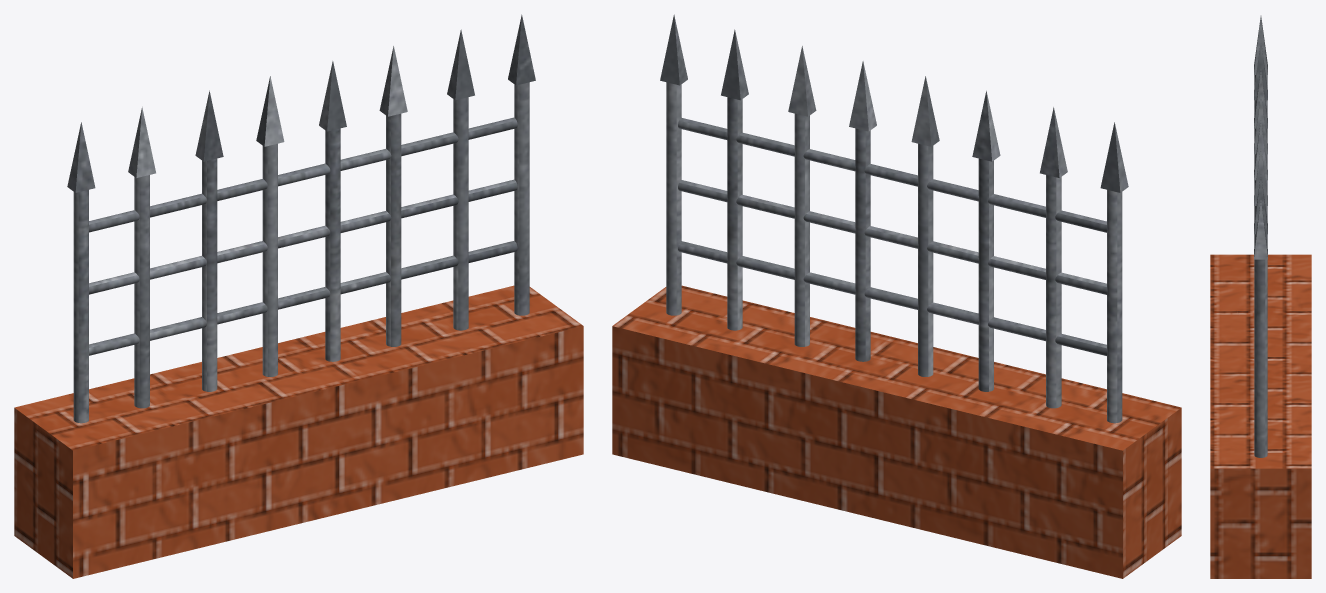
The model's file is fence.FBX.
3 renders of one model, left to right at view 1: azimuth 30°, elevation 25°; view 2: azimuth 150°, elevation 25°; view 3: azimuth 270°, elevation 25°, orthographic. The views are drawn at different scales.
Visible parts, largest first — view 1: Pyramid001; view 2: Pyramid001; view 3: Pyramid001.
Part boxes in pixels (x1,y1,x2,y2): Pyramid001: (14,14,583,578); Pyramid001: (612,14,1181,578); Pyramid001: (1210,15,1311,578).
Size of the model in its own units: 25 by 19.97 by 5.
Materials: 1 (1 with a texture image).
